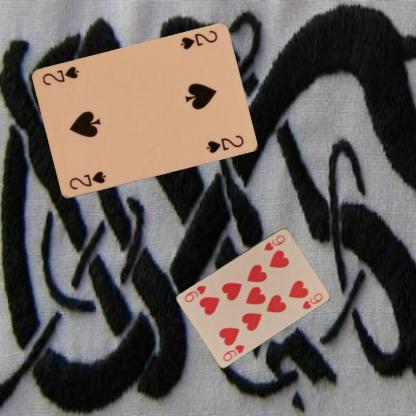2s: (177, 27, 219, 52), (66, 168, 107, 192)
9h: (261, 232, 287, 252), (220, 342, 246, 362)
